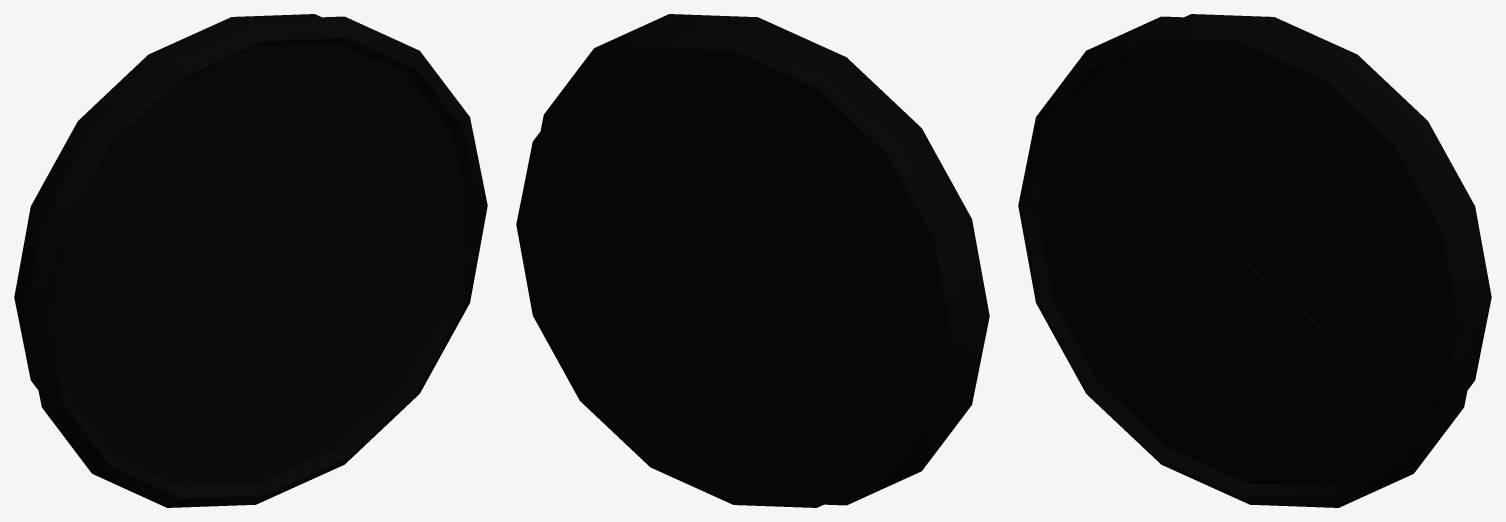
File: SM_wall_clock_old.fbx
The picture shows the model from 3 angles, left to right: view 1: azimuth 30°, elevation 25°; view 2: azimuth 150°, elevation 25°; view 3: azimuth 330°, elevation 25°; orthographic projection.
Visible parts, largest first — view 1: wall_clock_old, wall_clock_old_minute, wall_clock_old_hour; view 2: wall_clock_old; view 3: wall_clock_old, wall_clock_old_hour, wall_clock_old_minute.
Boxes of the visible parts, x1,y1,x2,y2 form: wall_clock_old: (14, 14, 487, 507); wall_clock_old_minute: (257, 83, 265, 267); wall_clock_old_hour: (260, 261, 361, 308); wall_clock_old: (516, 14, 989, 507); wall_clock_old: (1018, 14, 1491, 507); wall_clock_old_hour: (1239, 263, 1339, 352); wall_clock_old_minute: (1240, 83, 1248, 266).
Size of the model in its own units: 0.384 by 0.384 by 0.047.
